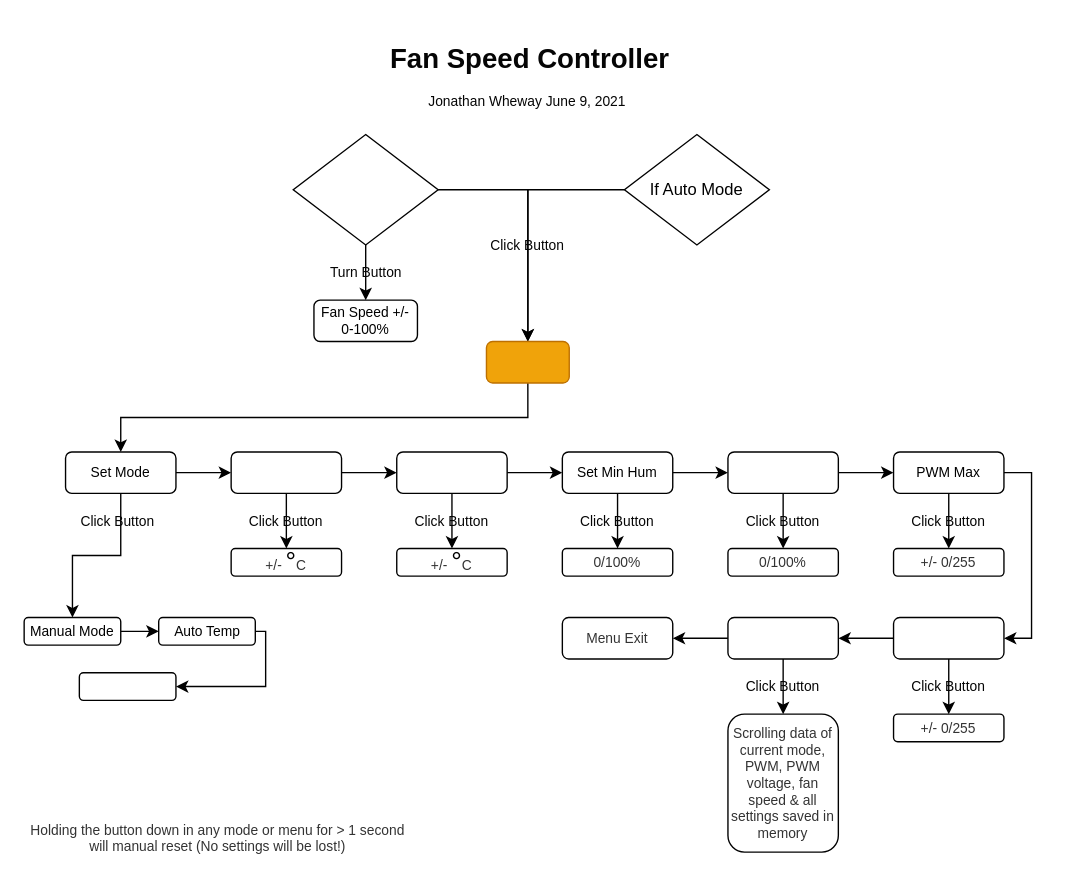
Image size: 1067x878. Some labels were removed from this diagram. Here are the shapes that lost their labels. From the top down, the box of each, then its label:
(292, 133, 438, 245): If Manual Mode
(485, 340, 569, 383): Setup
(230, 451, 342, 493): Set Min Temp
(395, 451, 507, 493): Set Max Temp
(727, 451, 838, 493): Set Max Hum
(727, 616, 838, 659): Diagnostic
(892, 616, 1004, 659): PWM Min
(78, 671, 176, 700): Auto Hum
